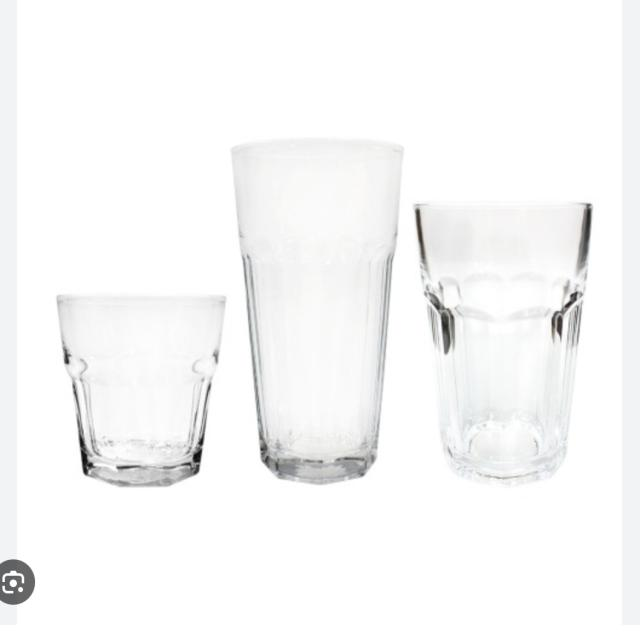recyclable: (223, 109, 412, 542), (408, 180, 596, 500), (45, 275, 234, 521)
